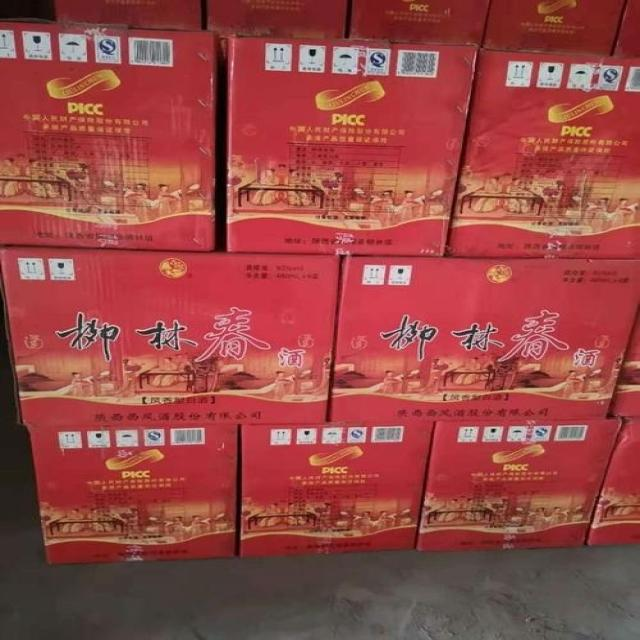box: (0, 247, 342, 428), (223, 36, 479, 257), (328, 256, 640, 423), (0, 18, 223, 251), (448, 48, 640, 259), (28, 425, 238, 565), (416, 416, 623, 552), (239, 422, 435, 557), (483, 0, 627, 55), (205, 0, 348, 52), (586, 415, 640, 547), (348, 0, 490, 46), (55, 0, 202, 31), (609, 304, 640, 416), (612, 1, 640, 55)
